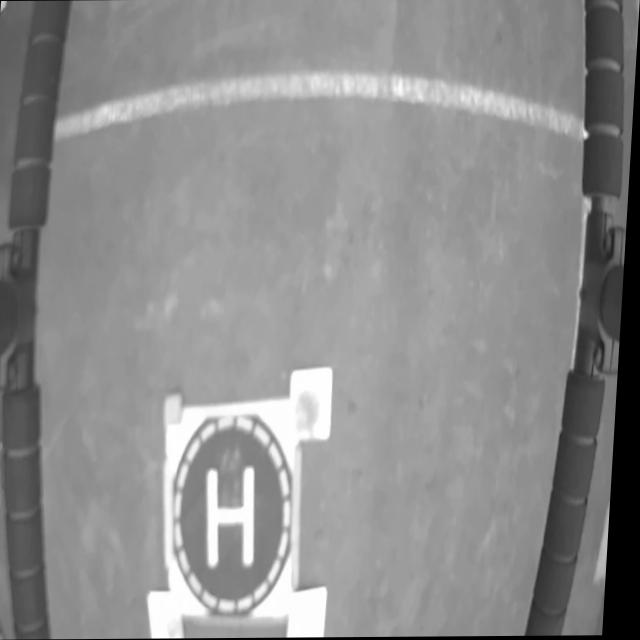Helipad: (211, 465, 261, 570)
